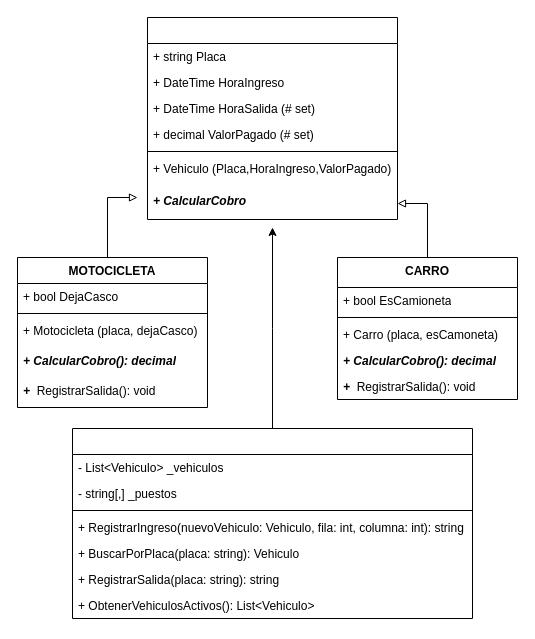
This 535x639 diagram has some shape labels left out. The shapes that lost their labels are listed below. From the top down, each one's box as (x1, y1, x2, y2) in pixels, then its label:
(146, 16, 398, 220): VEHICULO (ABSTRACTA)
(72, 428, 472, 618): ParqueaderoServicio
